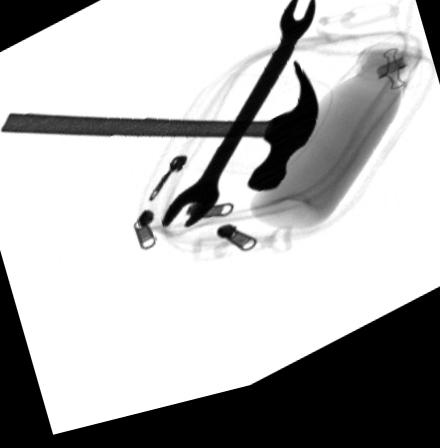Hammer: (0, 78, 318, 204)
Wrench: (158, 4, 317, 236)
